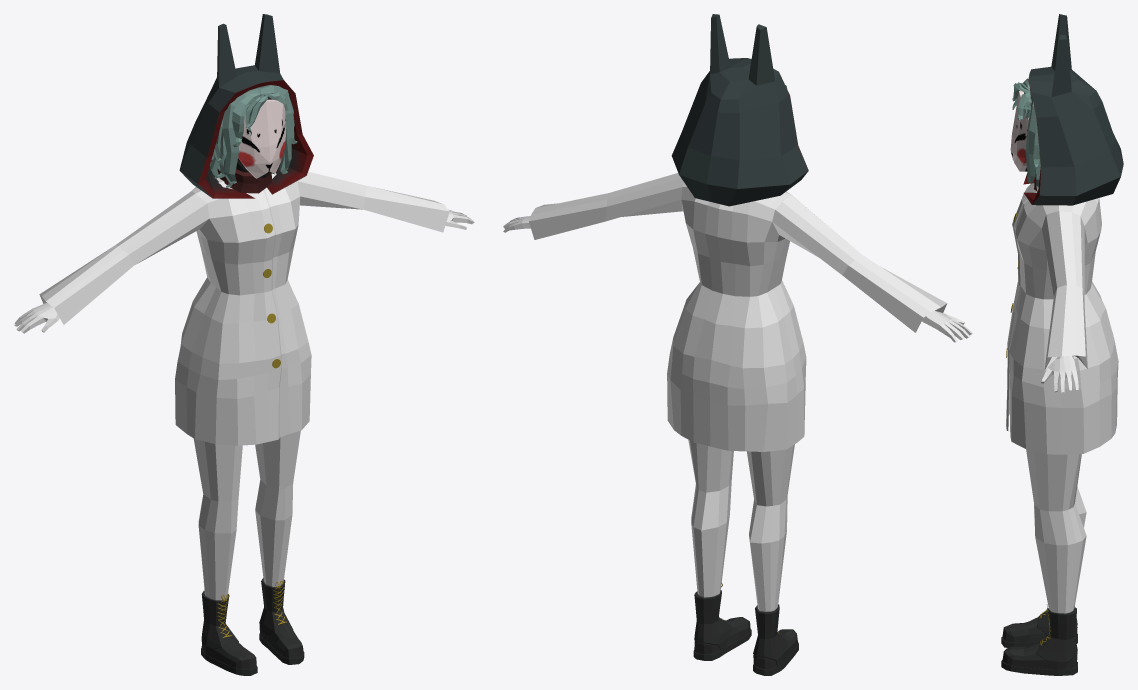
Rendered from Bbblue.fbx.
The picture shows the model from 3 angles, left to right: view 1: azimuth 30°, elevation 25°; view 2: azimuth 150°, elevation 25°; view 3: azimuth 270°, elevation 25°; orthographic projection. The views are drawn at different scales.
Visible parts, largest first — view 1: пальто, тело.001, капюшон, ботинки, маска, волосы, чёлка, шарф; view 2: пальто, капюшон, тело.001, ботинки; view 3: пальто, капюшон, тело.001, ботинки, волосы, маска, чёлка.
Boxes of the visible parts, <box> form: пальто: <box>39,171,449,445</box>; тело.001: <box>14,209,474,609</box>; капюшон: <box>179,14,313,198</box>; ботинки: <box>201,578,304,675</box>; маска: <box>238,99,285,178</box>; волосы: <box>209,85,297,187</box>; чёлка: <box>232,92,290,146</box>; шарф: <box>217,169,271,193</box>; пальто: <box>529,173,947,451</box>; капюшон: <box>671,14,808,206</box>; тело.001: <box>503,216,972,611</box>; ботинки: <box>693,590,798,675</box>; пальто: <box>1006,183,1118,454</box>; капюшон: <box>1023,14,1123,205</box>; тело.001: <box>1026,355,1086,613</box>; ботинки: <box>1001,606,1077,675</box>; волосы: <box>1025,88,1040,191</box>; маска: <box>1010,90,1029,171</box>; чёлка: <box>1012,78,1031,119</box>.
Bounding box in the file's own units: 2633 × 3483 × 613.
